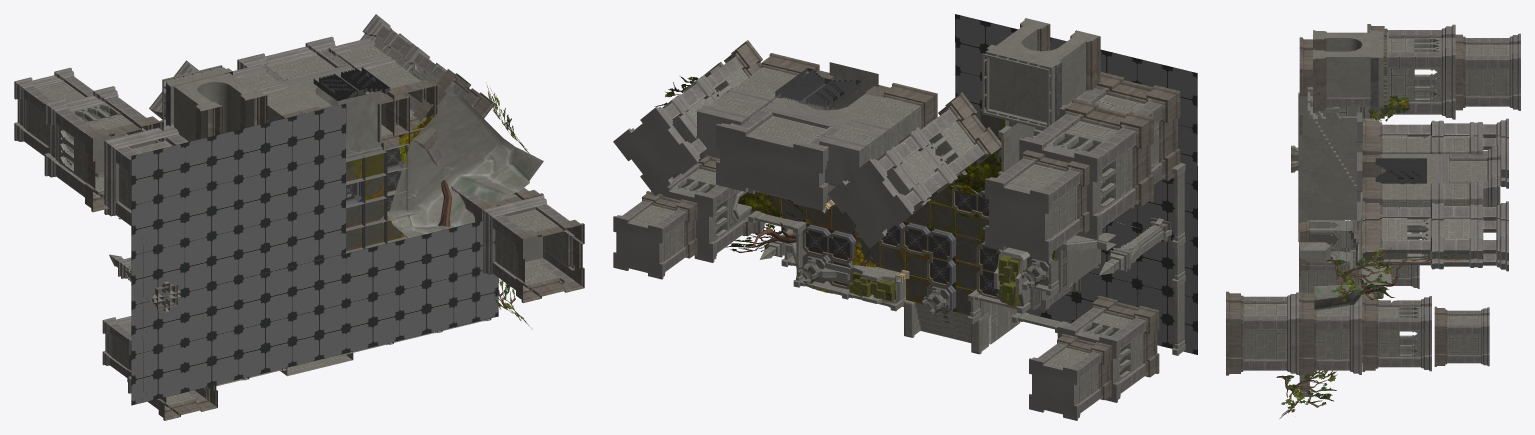
File: BATTLE.fbx
The picture shows the model from 3 angles, left to right: view 1: azimuth 30°, elevation 25°; view 2: azimuth 150°, elevation 25°; view 3: azimuth 270°, elevation 25°; orthographic projection. The views are drawn at different scales.
Visible parts, largest first — view 1: S_Outworld_outside_05, S_Outworld_outside_08, S_Outworld_building_30, S_Outworld_building_13, S_Outworld_building_12, S_playground, S_Outworld_building_23, S_Outworld_building_24, S_Outworld_building_27, S_Outworld_building_11, S_Outworld_building_15, S_Outworld_building_26 (+9 smaller); view 2: S_Outworld_outside_05, S_playground, S_Outworld_building_25, S_Outworld_building_13, S_Outworld_building_12, S_Outworld_building_11, S_Outworld_building_26, S_Outworld_building_24, S_Outworld_building_07, S_Outworld_building_47, S_Outworld_building_29, S_Outworld_building_28 (+19 smaller); view 3: S_Outworld_building_24, S_Outworld_wall02_07, S_Outworld_building_13, S_Outworld_building_12, S_Outworld_building_30, S_Outworld_building_32, S_Outworld_building_11, S_Outworld_building_31, S_Outworld_zhiwu_4, S_Outworld_building_47, S_Outworld_building_25, S_Outworld_building_27 (+11 smaller).
Part boxes in pixels (<box>): S_Outworld_outside_05: <box>131,103,498,405</box>; S_Outworld_outside_08: <box>387,95,543,238</box>; S_Outworld_building_30: <box>483,195,584,303</box>; S_Outworld_building_13: <box>44,86,163,212</box>; S_Outworld_building_12: <box>162,65,267,144</box>; S_playground: <box>232,144,420,281</box>; S_Outworld_building_23: <box>279,64,409,159</box>; S_Outworld_building_24: <box>360,14,494,125</box>; S_Outworld_building_27: <box>328,38,437,136</box>; S_Outworld_building_11: <box>14,67,111,165</box>; S_Outworld_building_15: <box>104,124,188,225</box>; S_Outworld_building_26: <box>237,36,348,81</box>; S_Outworld_outside_05: <box>783,14,1197,354</box>; S_playground: <box>754,107,1055,317</box>; S_Outworld_building_25: <box>827,92,1001,248</box>; S_Outworld_building_13: <box>1019,98,1153,240</box>; S_Outworld_building_12: <box>982,18,1100,129</box>; S_Outworld_building_11: <box>985,150,1089,261</box>; S_Outworld_building_26: <box>716,109,839,210</box>; S_Outworld_building_24: <box>613,40,762,195</box>; S_Outworld_building_07: <box>819,83,937,186</box>; S_Outworld_building_47: <box>613,191,697,279</box>; S_Outworld_building_29: <box>1057,295,1159,402</box>; S_Outworld_building_28: <box>1029,333,1111,420</box>; S_Outworld_building_24: <box>1362,201,1508,271</box>; S_Outworld_wall02_07: <box>1298,96,1360,295</box>; S_Outworld_building_13: <box>1367,24,1455,119</box>; S_Outworld_building_12: <box>1313,30,1388,112</box>; S_Outworld_building_30: <box>1226,291,1298,375</box>; S_Outworld_building_32: <box>1362,295,1431,371</box>; S_Outworld_building_11: <box>1455,33,1520,110</box>; S_Outworld_building_31: <box>1299,291,1361,375</box>; S_Outworld_zhiwu_4: <box>1276,95,1469,418</box>; S_Outworld_building_47: <box>1434,306,1489,366</box>; S_Outworld_building_25: <box>1362,118,1508,188</box>; S_Outworld_building_27: <box>1362,179,1483,207</box>.
Size of what is drawn, in the model's own units: 0.1975 by 0.1274 by 0.1297.
